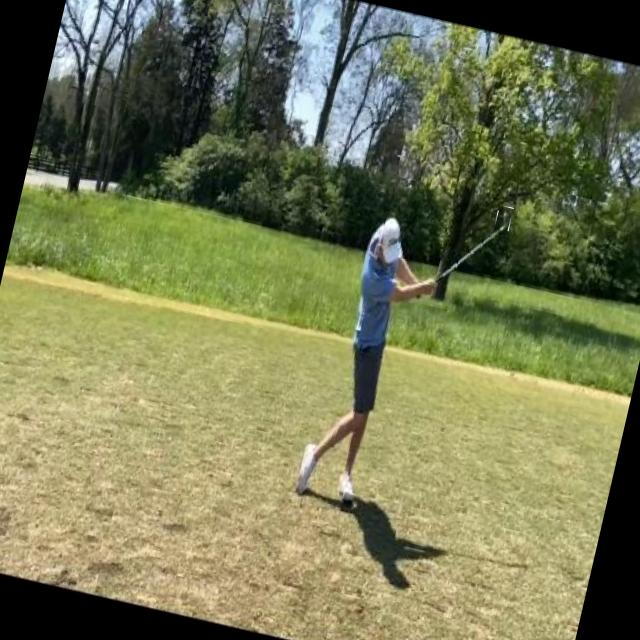club head: (492, 204, 513, 236)
